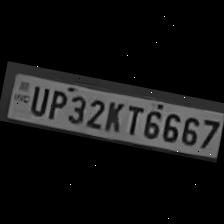2: (83, 94, 108, 130)
3: (62, 90, 88, 126)
6: (176, 113, 202, 148), (138, 106, 163, 141), (159, 110, 182, 144)
7: (196, 116, 220, 152)
K: (100, 98, 127, 134)
P: (44, 87, 69, 122)
T: (120, 101, 144, 137)
U: (24, 82, 50, 117)
